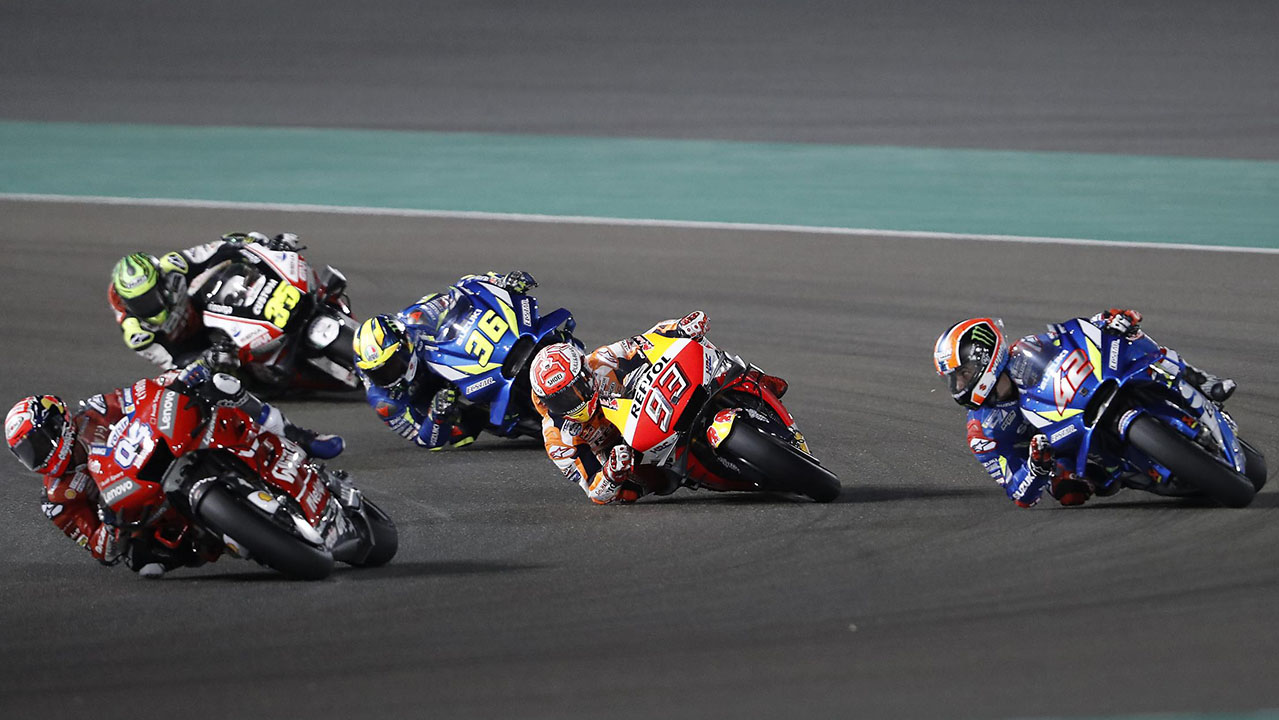helmet: (919, 304, 1006, 407), (523, 330, 598, 427), (1, 380, 71, 482), (100, 246, 179, 333), (343, 302, 412, 393)
